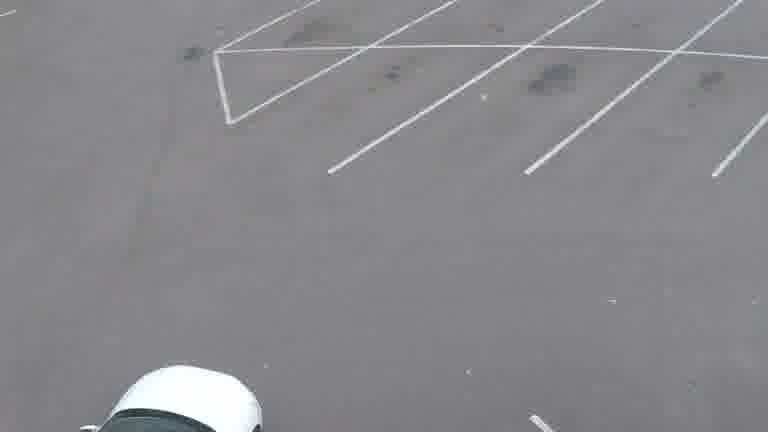person: (80, 362, 267, 432)
